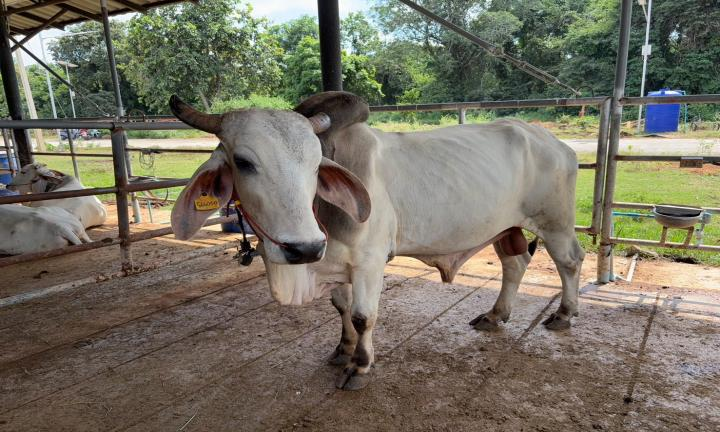Brahman: (168, 91, 584, 390)
